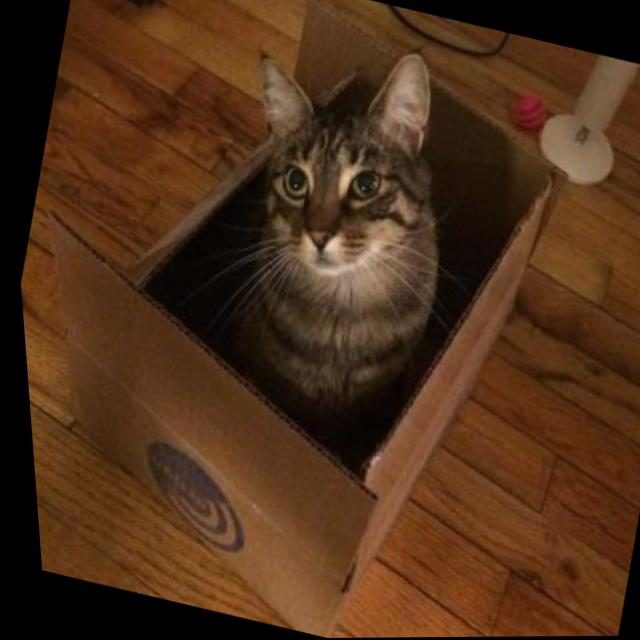box: (0, 0, 624, 640)
